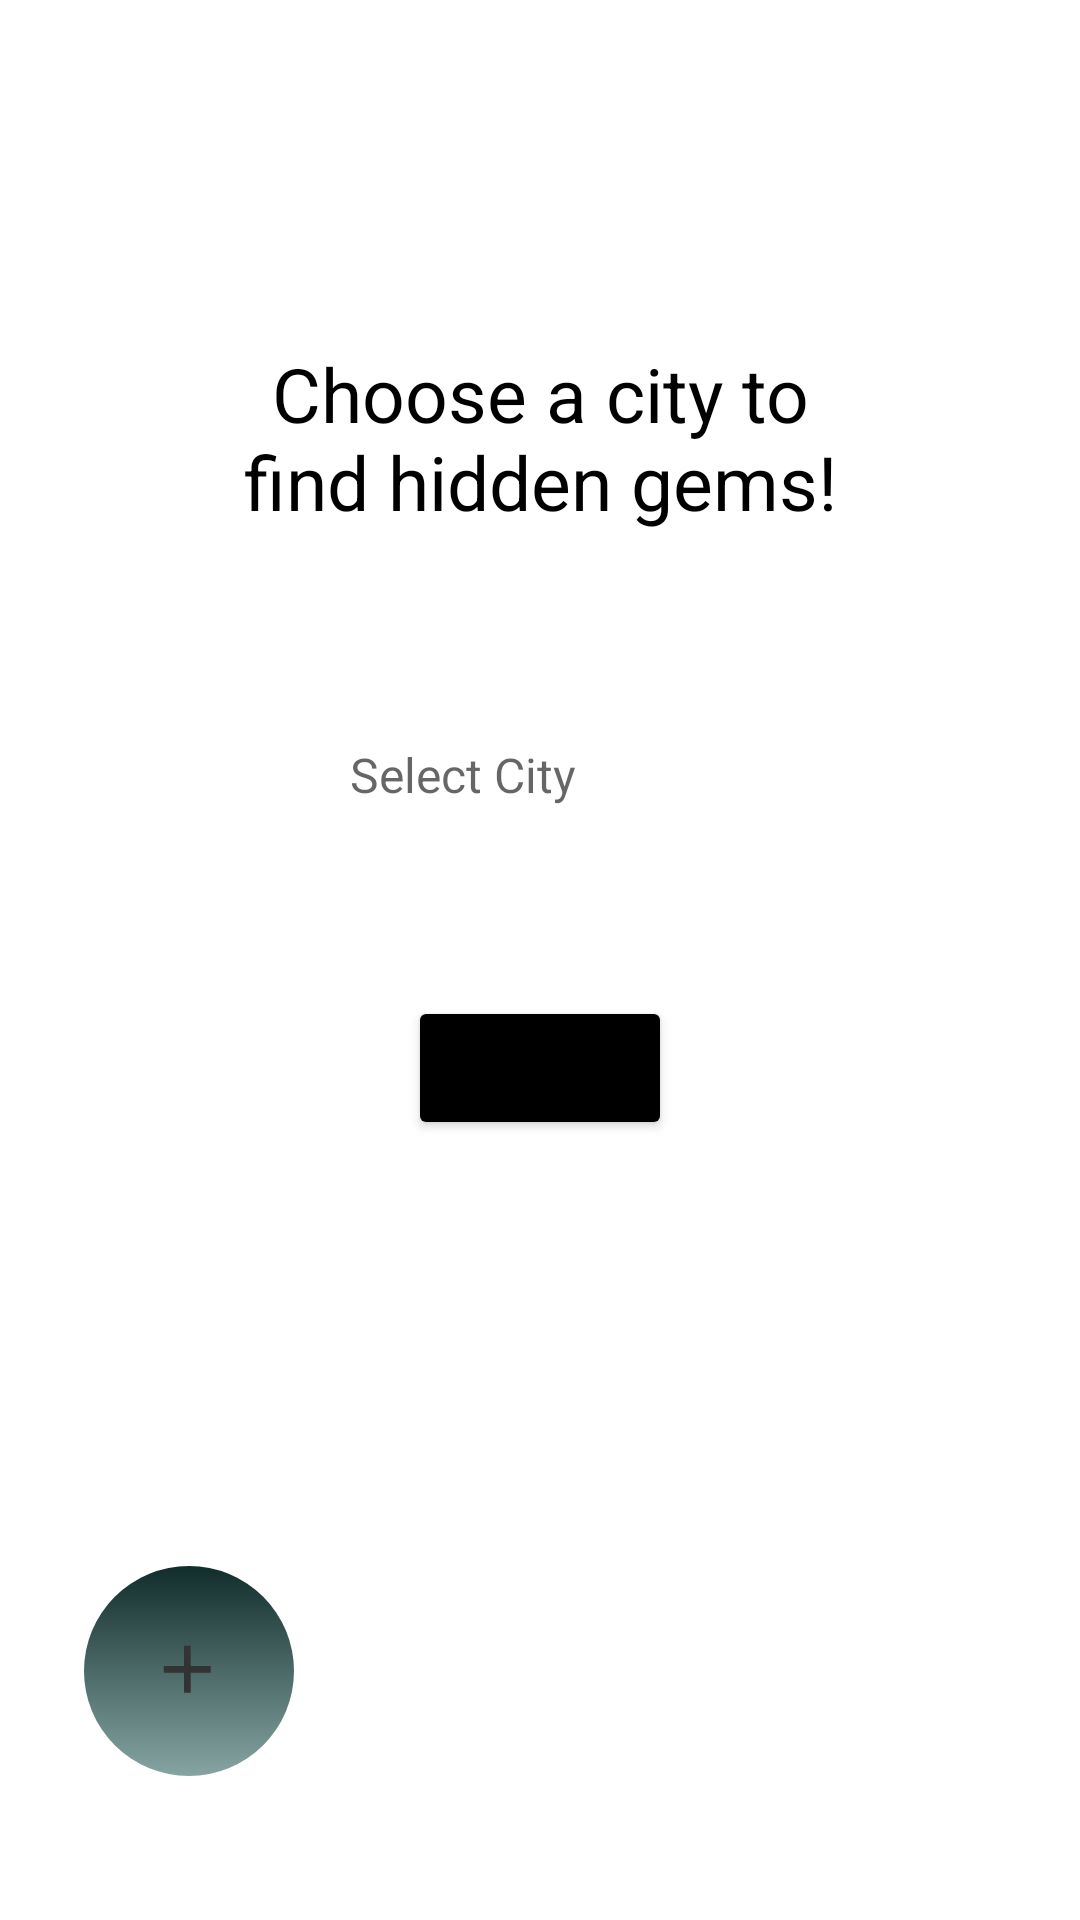

Icon click points for this 1080w x 1920h phone screenshot, format (x,y):
add: (189,1671)
